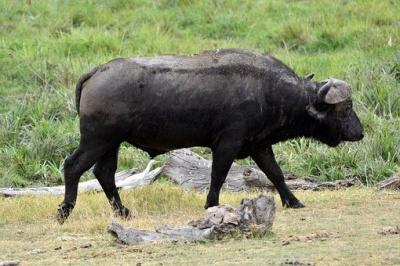buffalo: (57, 49, 363, 222)
